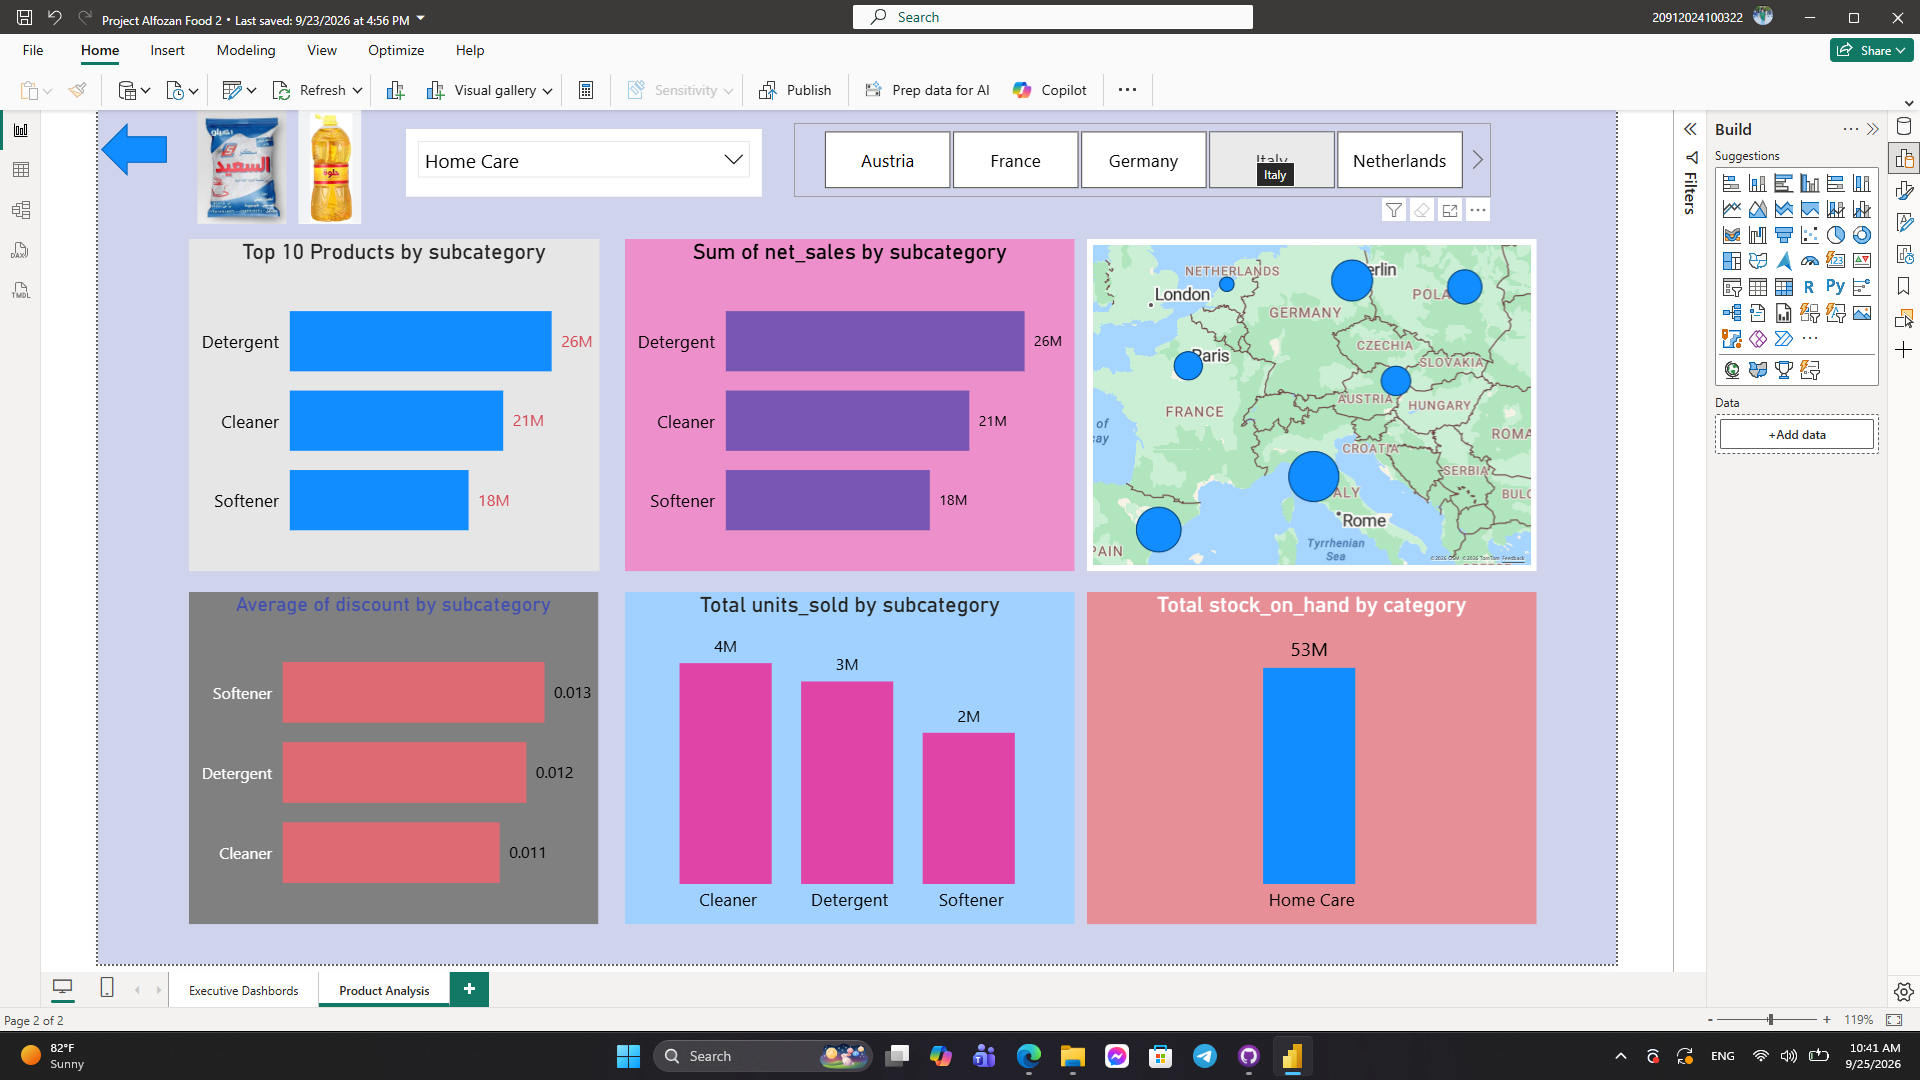

What the dashboard file says about the page in this screenshot:
{"tool":"powerbi","page":{"name":"Product  Analysis","canvas":[1280,720],"ordinal":1},"visuals":[{"type":"barChart","fields":{"Category":["fmcg_sales_3years_1M_rows.subcategory"],"Y":["Sum(fmcg_sales_3years_1M_rows.net_sales)"]},"box":[76.6,108.9,345.7,280.2],"z":0},{"type":"clusteredBarChart","fields":{"Category":["fmcg_sales_3years_1M_rows.subcategory"],"Y":["Sum(fmcg_sales_3years_1M_rows.net_sales)"]},"box":[444.5,108.9,379,280.2],"z":1000},{"type":"columnChart","fields":{"Category":["fmcg_sales_3years_1M_rows.subcategory"],"Y":["Sum(fmcg_sales_3years_1M_rows.units_sold)"]},"box":[444.5,406.2,379,280.2],"z":2000},{"type":"clusteredBarChart","fields":{"Category":["fmcg_sales_3years_1M_rows.subcategory"],"Y":["Avg(fmcg_sales_3years_1M_rows.discount_pct)"]},"box":[76.6,406.2,344.7,280.2],"z":3000},{"type":"columnChart","fields":{"Category":["fmcg_sales_3years_1M_rows.category"],"Y":["Sum(fmcg_sales_3years_1M_rows.stock_on_hand)"]},"box":[833.5,406.2,379,280.2],"z":4000},{"type":"azureMap","title":" net_sales by country","fields":{"Category":["fmcg_sales_3years_1M_rows.country"],"Size":["Sum(fmcg_sales_3years_1M_rows.net_sales)"],"X":["Avg(fmcg_sales_3years_1M_rows.longitude)"],"Y":["Avg(fmcg_sales_3years_1M_rows.latitude)"]},"box":[833.5,108.9,379,280.2],"z":5000},{"type":"slicer","fields":{"Values":["fmcg_sales_3years_1M_rows.country"]},"box":[586.6,11.1,587.6,62.5],"z":6000},{"type":"slicer","fields":{"Values":["fmcg_sales_3years_1M_rows.category"]},"box":[260,16.1,300.3,57.4],"z":7000},{"type":"image","box":[167.3,0,56.4,95.7],"z":8000},{"type":"image","box":[76.1,0,90.7,95.7],"z":9000},{"type":"shape","box":[2.7,10.7,55.5,44.8],"z":9001}]}

Visuals, with their boxes on the page's 1280x720 design canvas (x1, y1, x2, y2). These are canvas units, not pixel positions in the 1920x1080 screenshot, which may show the page scaled, cropped or inside an application window:
barChart - fmcg_sales_3years_1M_rows.subcategory x Sum(fmcg_sales_3years_1M_rows.net_sales): box=[77, 109, 422, 389]
clusteredBarChart - fmcg_sales_3years_1M_rows.subcategory x Sum(fmcg_sales_3years_1M_rows.net_sales): box=[444, 109, 824, 389]
columnChart - fmcg_sales_3years_1M_rows.subcategory x Sum(fmcg_sales_3years_1M_rows.units_sold): box=[444, 406, 824, 686]
clusteredBarChart - fmcg_sales_3years_1M_rows.subcategory x Avg(fmcg_sales_3years_1M_rows.discount_pct): box=[77, 406, 421, 686]
columnChart - fmcg_sales_3years_1M_rows.category x Sum(fmcg_sales_3years_1M_rows.stock_on_hand): box=[834, 406, 1212, 686]
" net_sales by country" azureMap: box=[834, 109, 1212, 389]
slicer - fmcg_sales_3years_1M_rows.country: box=[587, 11, 1174, 74]
slicer - fmcg_sales_3years_1M_rows.category: box=[260, 16, 560, 74]
image: box=[167, 0, 224, 96]
image: box=[76, 0, 167, 96]
shape: box=[3, 11, 58, 56]
